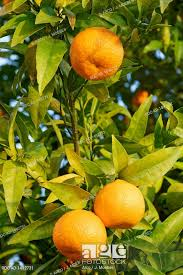orange: (46, 207, 111, 256), (92, 176, 148, 227), (66, 29, 123, 79)
